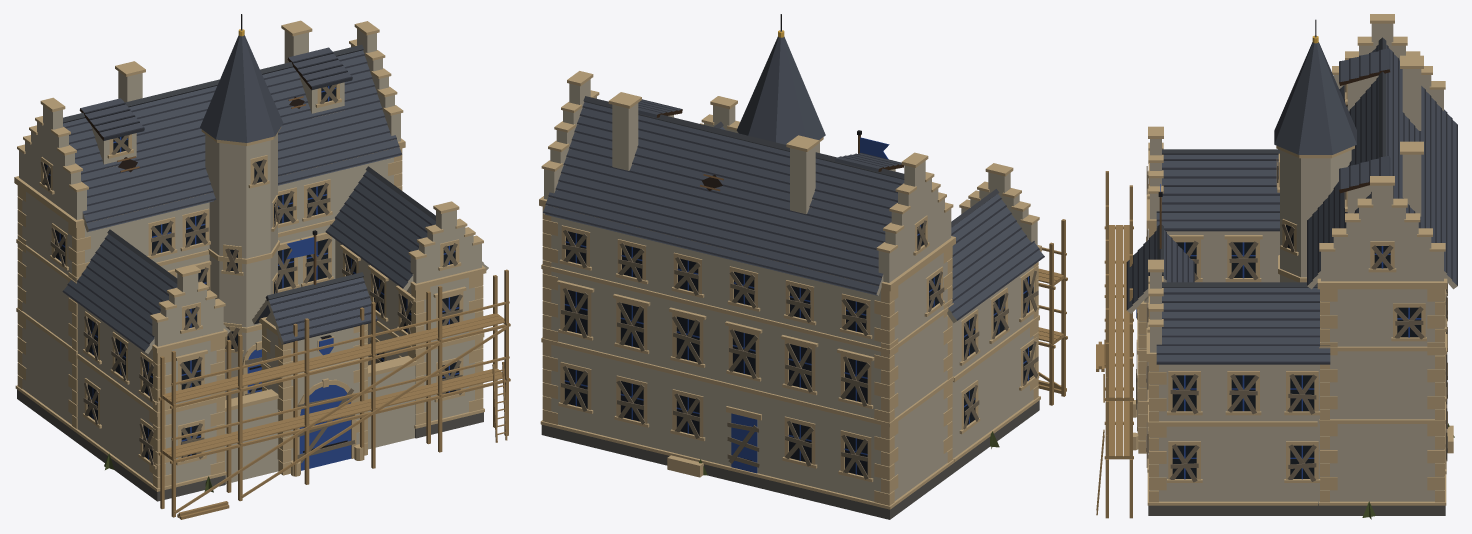
Rendered from stadthof.glb.
3 views of the same model, side by side, from view 1: azimuth 30°, elevation 25°; view 2: azimuth 150°, elevation 25°; view 3: azimuth 270°, elevation 25° (orthographic). The views are drawn at different scales.
Visible parts, largest first — view 1: Haus, Geruest, Leerstand, Fahne; view 2: Haus, Leerstand, Geruest; view 3: Haus, Geruest, Leerstand.
Boxes of the visible parts, bbox=[...] form: Haus: bbox=[14, 14, 488, 501]; Geruest: bbox=[158, 269, 510, 519]; Leerstand: bbox=[40, 84, 462, 492]; Fahne: bbox=[287, 230, 317, 284]; Haus: bbox=[539, 14, 1044, 519]; Leerstand: bbox=[561, 174, 1038, 479]; Geruest: bbox=[1038, 219, 1067, 405]; Haus: bbox=[1126, 14, 1457, 515]; Geruest: bbox=[1096, 171, 1133, 518]; Leerstand: bbox=[1136, 84, 1454, 519].
Bounding box in the file's own units: 15.74 × 17 × 13.54.
